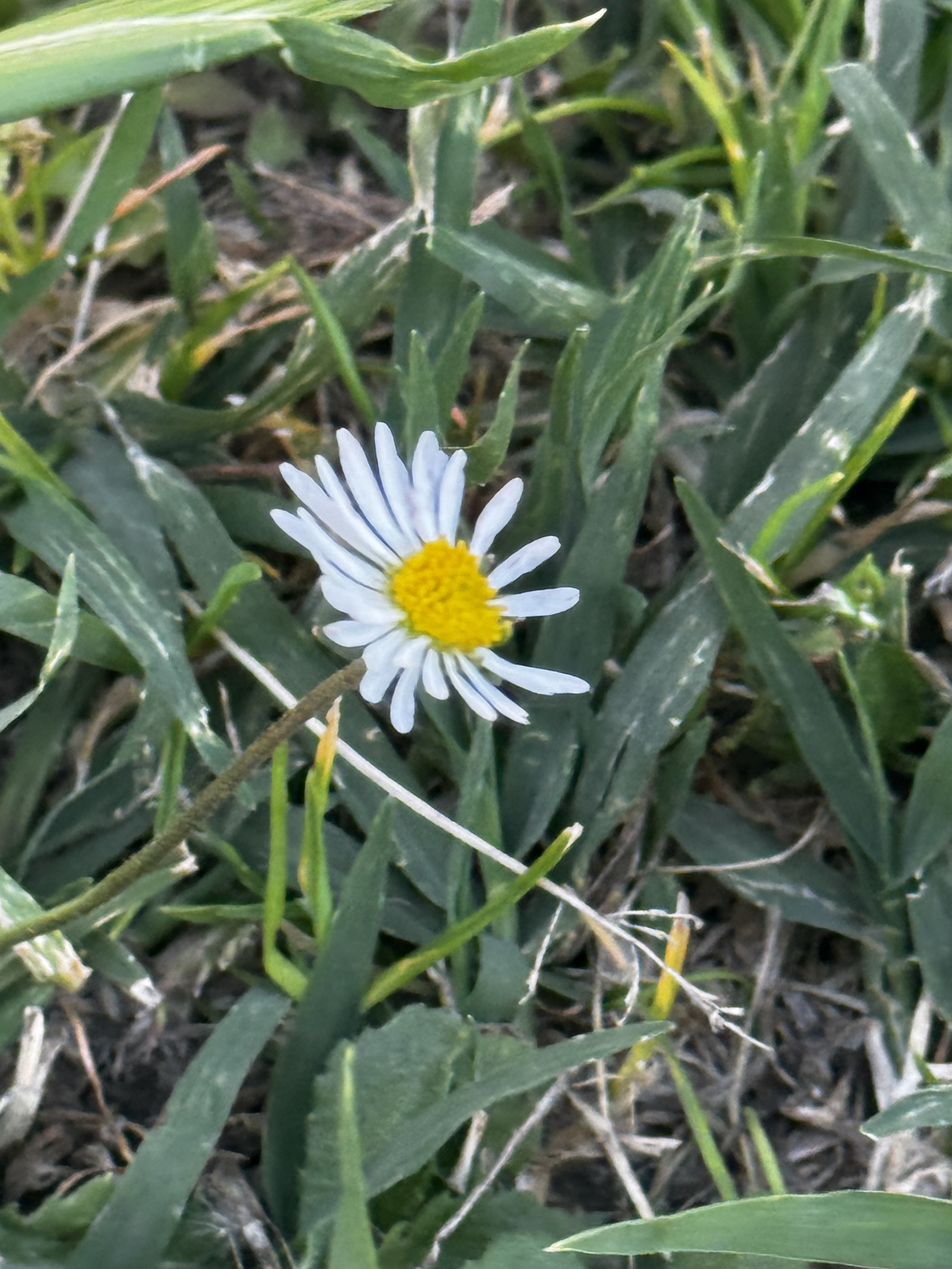daisy: (265, 413, 605, 755)
